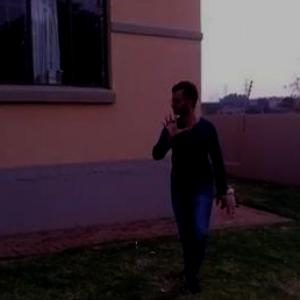follow_hand: (158, 109, 190, 141)
